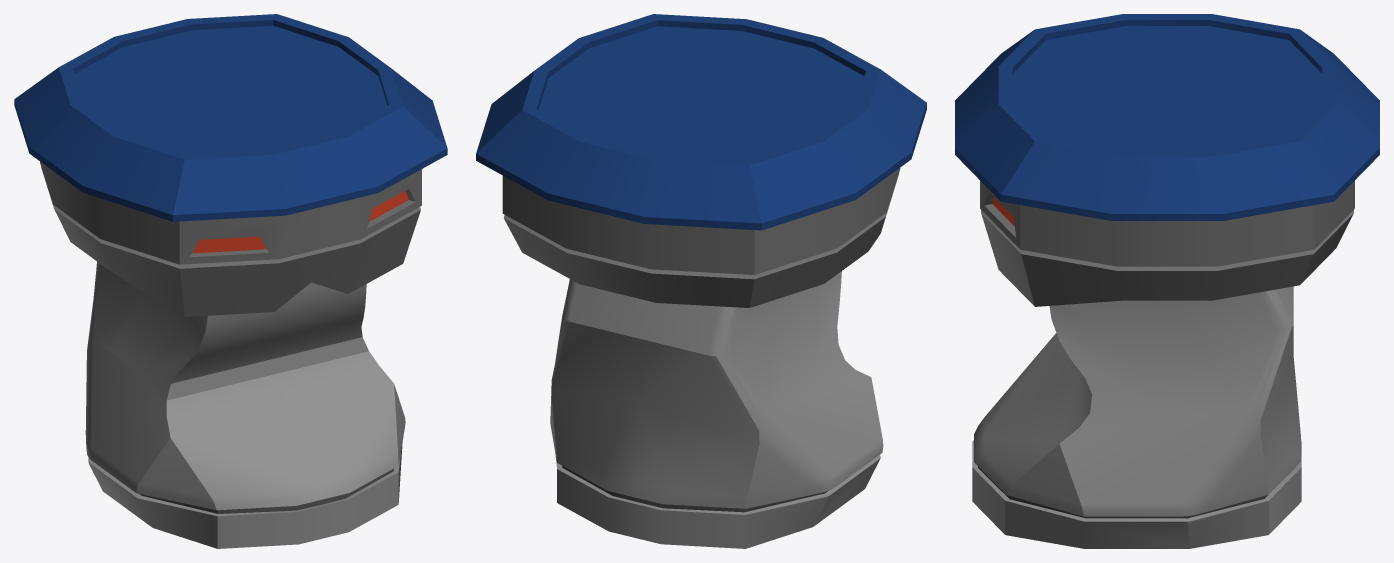
Rendered from robot.fbx.
The picture shows the model from 3 angles, left to right: view 1: azimuth 30°, elevation 25°; view 2: azimuth 150°, elevation 25°; view 3: azimuth 270°, elevation 25°; orthographic projection. The views are drawn at different scales.
Visible parts, largest first — view 1: Robot; view 2: Robot; view 3: Robot.
Part boxes in pixels (bbox=[...]): Robot: bbox=[14, 14, 447, 548]; Robot: bbox=[476, 14, 926, 548]; Robot: bbox=[955, 14, 1379, 548].
Size of the model in its own units: 215 by 226 by 215.
